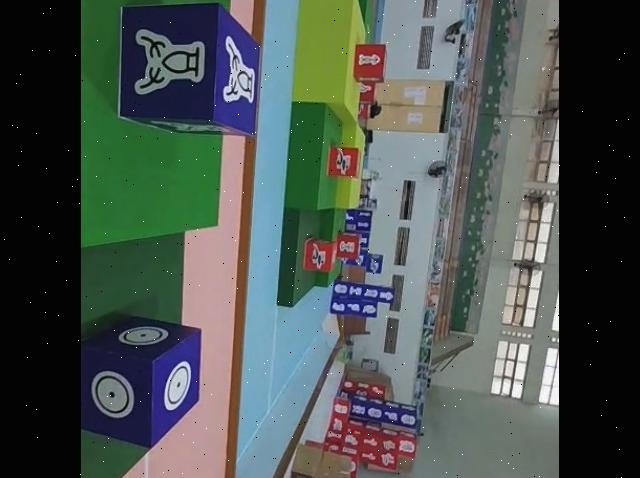R2 Real Blue: (118, 3, 262, 137), (81, 314, 203, 444)
